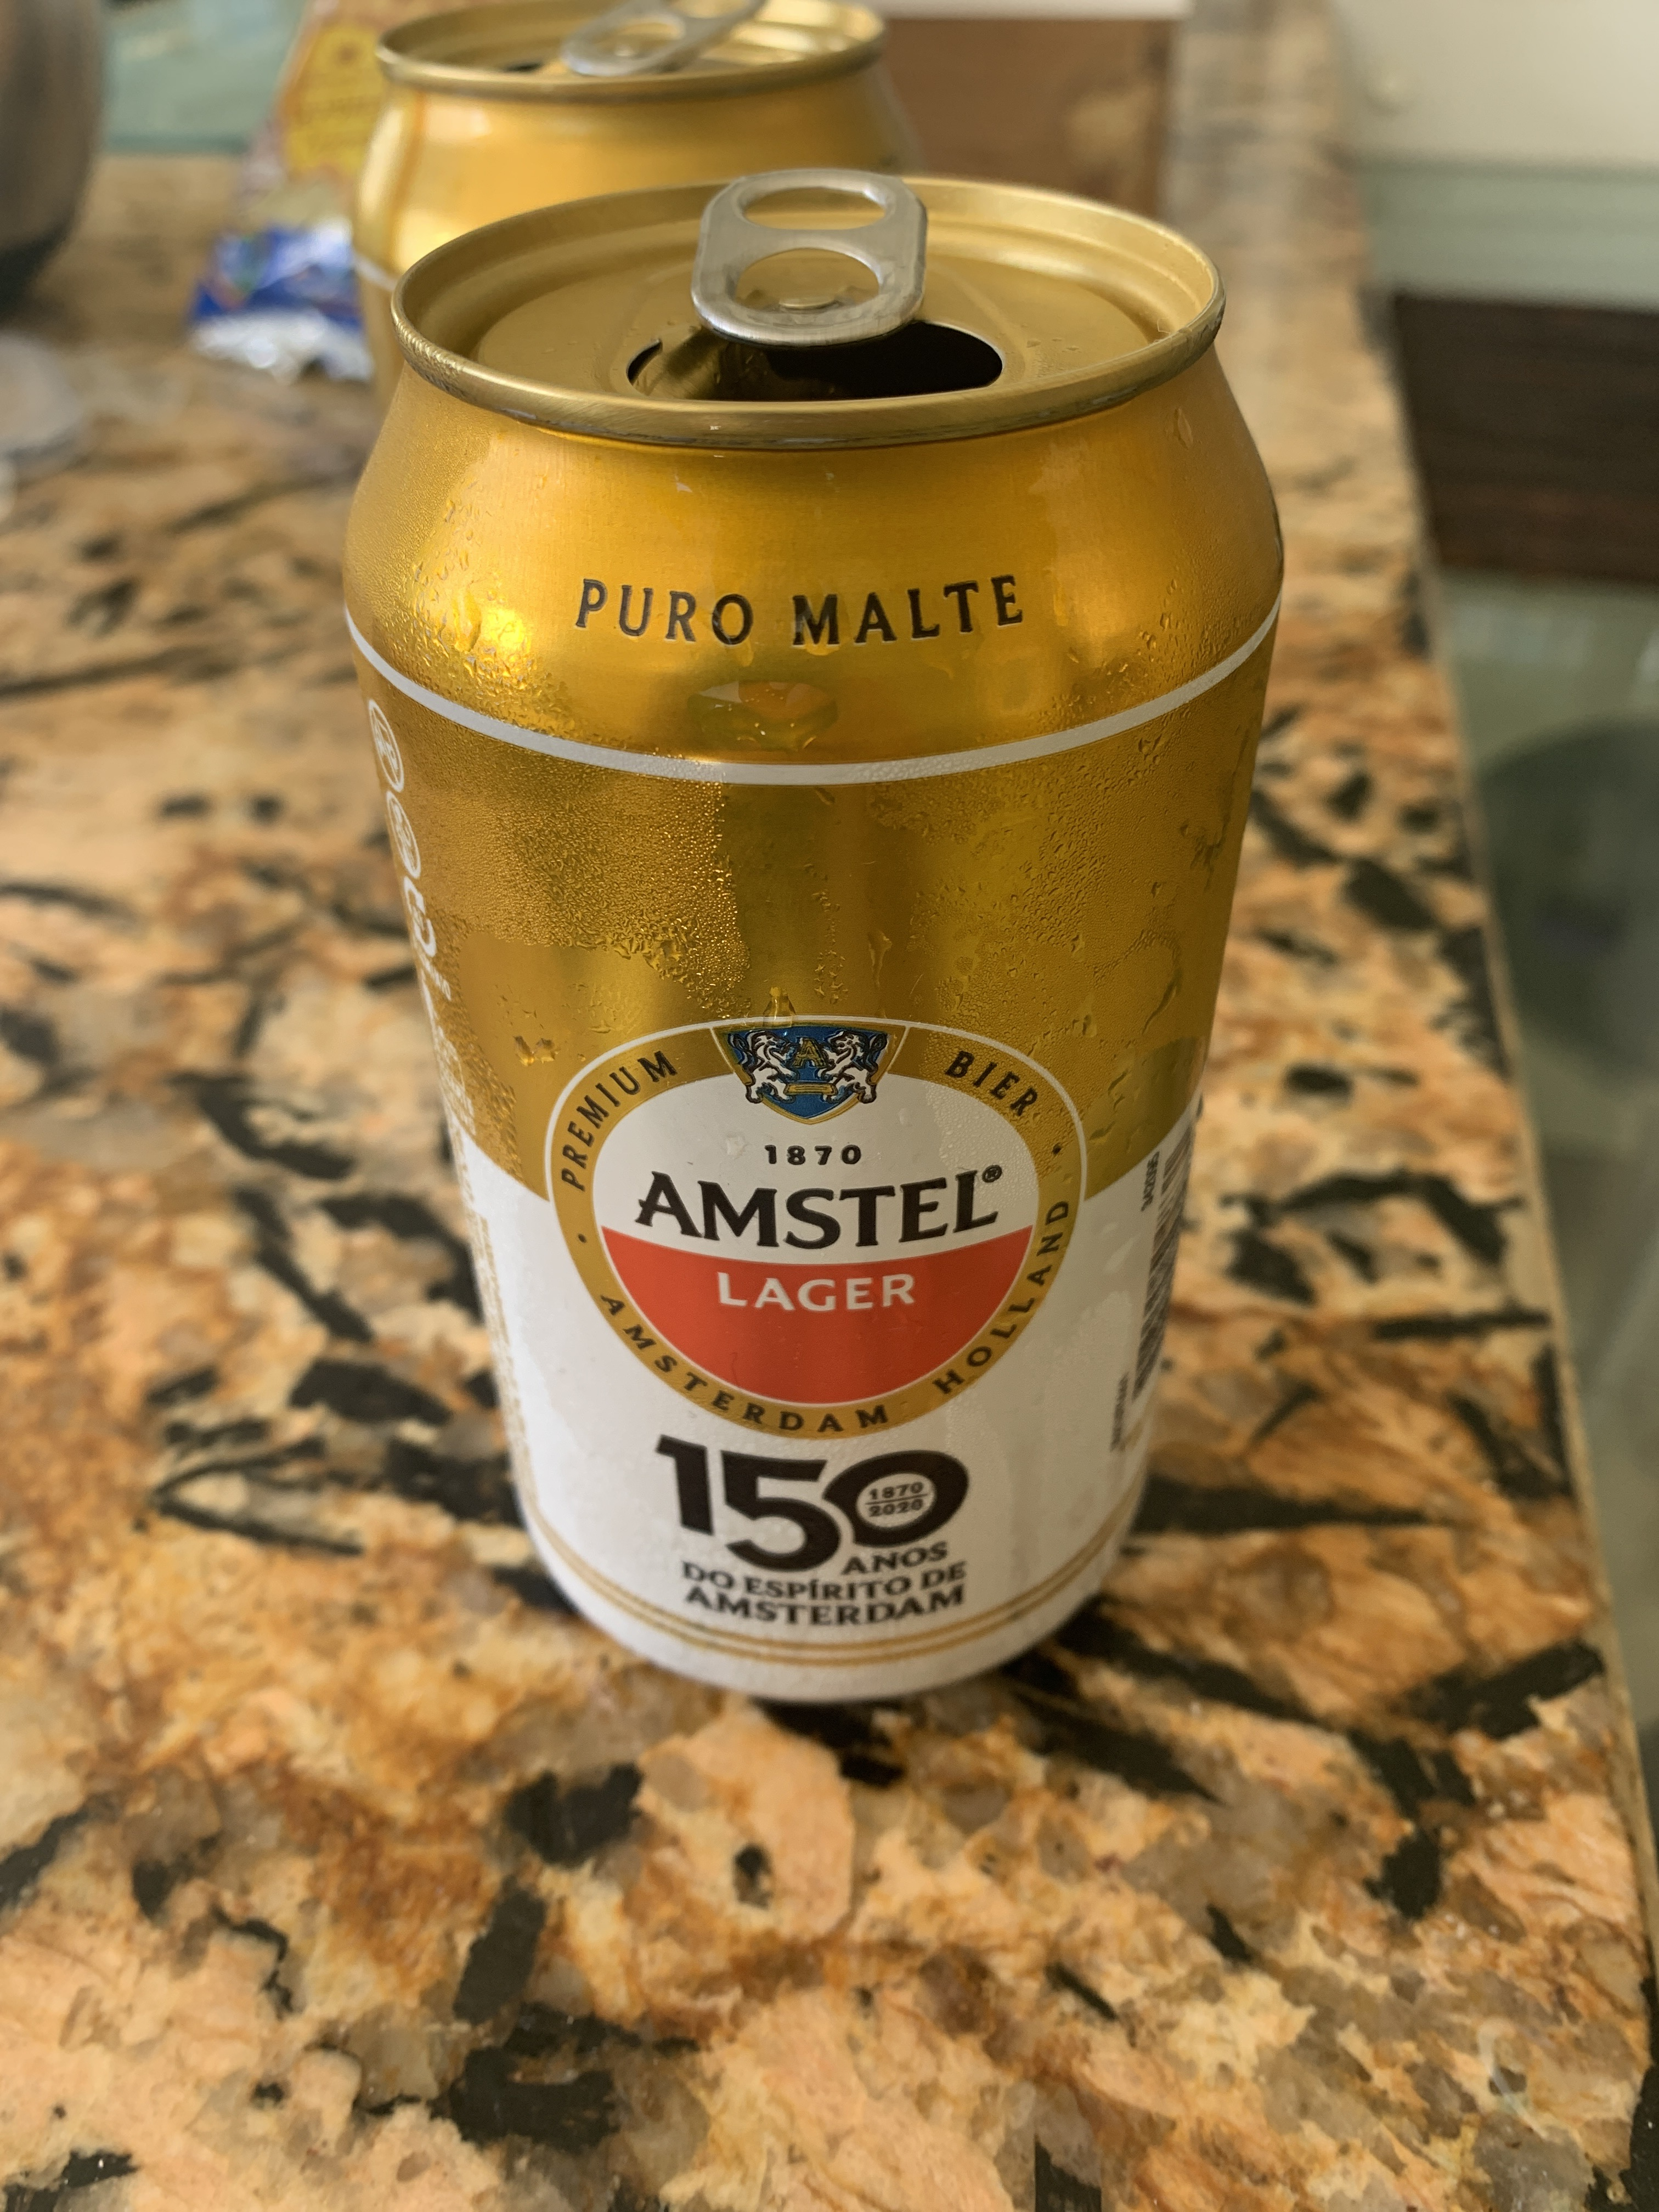amstel: (329, 164, 1305, 1733)
